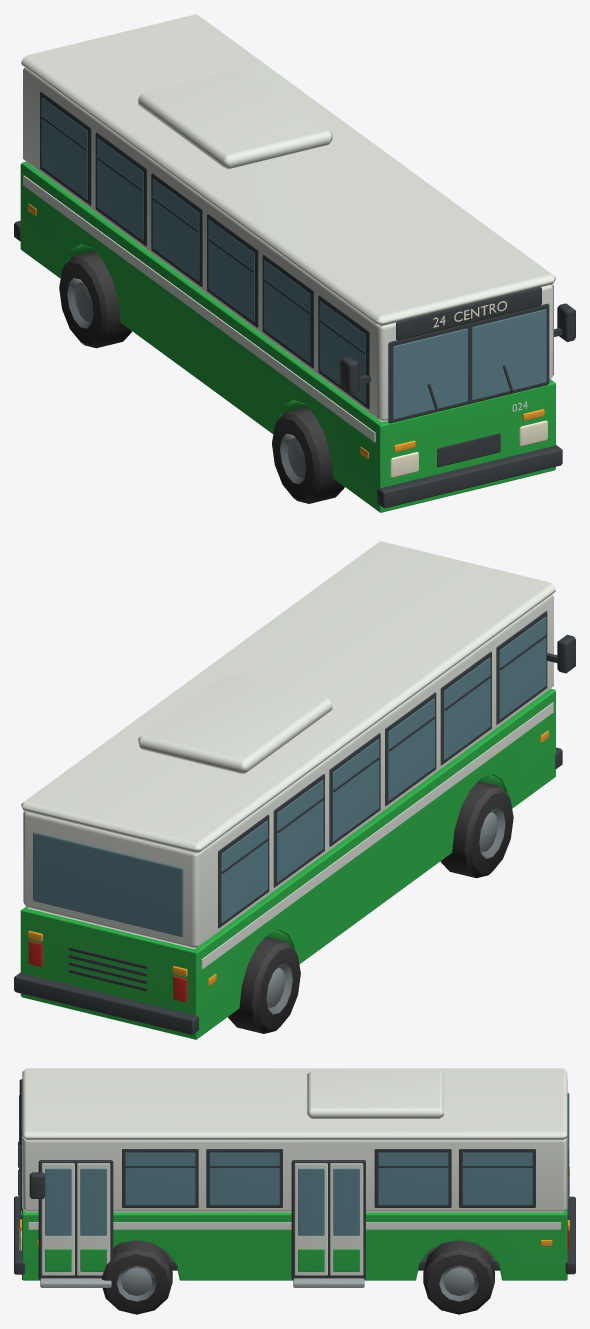
Rendered from colectivo.glb.
The picture shows the model from 3 angles, top to bottom: view 1: azimuth 30°, elevation 25°; view 2: azimuth 150°, elevation 25°; view 3: azimuth 270°, elevation 25°; orthographic projection. The views are drawn at different scales.
Visible parts, largest first — view 1: Colectivo - techo export, Colectivo - carroceria inferior export, Colectivo - carroceria superior export, Colectivo - equipo de techo export, Colectivo - parabrisas export, Colectivo - parabrisas.001 export, Colectivo - rueda delantera derecha export, Colectivo - rueda trasera derecha export, Colectivo - paragolpes delantero export, Colectivo - franja lateral export, Colectivo - ventana lateral.003 export, Colectivo - ventana lateral.001 export (+14 smaller); view 2: Colectivo - techo export, Colectivo - carroceria inferior export, Colectivo - carroceria superior export, Colectivo - equipo de techo export, Colectivo - ventana trasera export, Colectivo - rueda delantera derecha export, Colectivo - rueda trasera derecha export, Colectivo - franja lateral export, Colectivo - paragolpes trasero export, Colectivo - ventana lateral export, Colectivo - ventana lateral.003 export, Colectivo - ventana lateral.005 export (+10 smaller); view 3: Colectivo - techo export, Colectivo - carroceria inferior export, Colectivo - carroceria superior export, Colectivo - equipo de techo export, Colectivo - rueda trasera izquierda export, Colectivo - rueda delantera izquierda export, Colectivo - ventana lateral.006 export, Colectivo - ventana lateral.008 export, Colectivo - ventana lateral.007 export, Colectivo - ventana lateral.009 export, Colectivo - franja lateral.001 export, Colectivo - vidrio puerta export (+23 smaller).
Part boxes in pixels (left/top/right/bottom): Colectivo - techo export: left=21, top=14, right=555, bottom=326; Colectivo - carroceria inferior export: left=20, top=161, right=555, bottom=512; Colectivo - carroceria superior export: left=23, top=67, right=553, bottom=421; Colectivo - equipo de techo export: left=138, top=68, right=332, bottom=169; Colectivo - parabrisas export: left=393, top=328, right=467, bottom=419; Colectivo - parabrisas.001 export: left=472, top=309, right=546, bottom=400; Colectivo - rueda delantera derecha export: left=272, top=407, right=344, bottom=503; Colectivo - rueda trasera derecha export: left=59, top=251, right=131, bottom=348; Colectivo - paragolpes delantero export: left=377, top=445, right=562, bottom=508; Colectivo - franja lateral export: left=23, top=175, right=375, bottom=442; Colectivo - ventana lateral.003 export: left=152, top=179, right=199, bottom=281; Colectivo - ventana lateral.001 export: left=264, top=260, right=310, bottom=362; Colectivo - techo export: left=21, top=541, right=555, bottom=853; Colectivo - carroceria inferior export: left=20, top=688, right=555, bottom=1039; Colectivo - carroceria superior export: left=23, top=594, right=553, bottom=948; Colectivo - equipo de techo export: left=138, top=673, right=332, bottom=774; Colectivo - ventana trasera export: left=33, top=832, right=183, bottom=936; Colectivo - rueda delantera derecha export: left=440, top=781, right=513, bottom=878; Colectivo - rueda trasera derecha export: left=228, top=937, right=300, bottom=1033; Colectivo - franja lateral export: left=201, top=702, right=553, bottom=969; Colectivo - paragolpes trasero export: left=14, top=972, right=198, bottom=1034; Colectivo - ventana lateral export: left=499, top=617, right=546, bottom=719; Colectivo - ventana lateral.003 export: left=332, top=739, right=379, bottom=841; Colectivo - ventana lateral.005 export: left=221, top=820, right=267, bottom=922; Colectivo - techo export: left=22, top=1068, right=567, bottom=1140; Colectivo - carroceria inferior export: left=22, top=1208, right=567, bottom=1280; Colectivo - carroceria superior export: left=22, top=1079, right=567, bottom=1212; Colectivo - equipo de techo export: left=307, top=1070, right=443, bottom=1118; Colectivo - rueda trasera izquierda export: left=423, top=1240, right=494, bottom=1314; Colectivo - rueda delantera izquierda export: left=101, top=1240, right=172, bottom=1314; Colectivo - ventana lateral.006 export: left=125, top=1152, right=195, bottom=1205; Colectivo - ventana lateral.008 export: left=378, top=1152, right=448, bottom=1205; Colectivo - ventana lateral.007 export: left=209, top=1152, right=279, bottom=1205; Colectivo - ventana lateral.009 export: left=462, top=1152, right=532, bottom=1205; Colectivo - franja lateral.001 export: left=28, top=1222, right=560, bottom=1229; Colectivo - vidrio puerta export: left=45, top=1168, right=71, bottom=1235.
Size of the model in its own units: 3.22 by 3.39 by 9.06.
9 materials, 1 textured.
